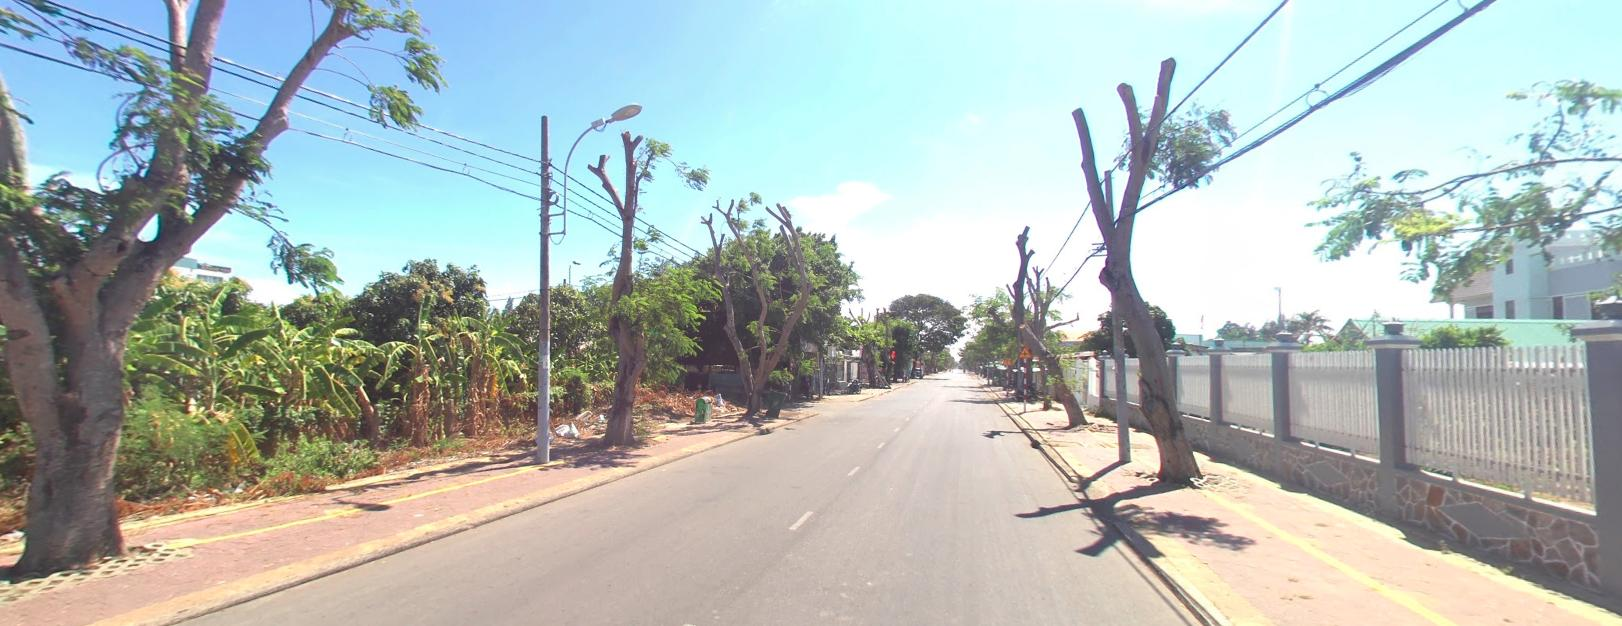Nguy hiem: (1018, 345, 1032, 356), (1018, 345, 1031, 356), (1002, 354, 1011, 363), (1003, 355, 1012, 363)
